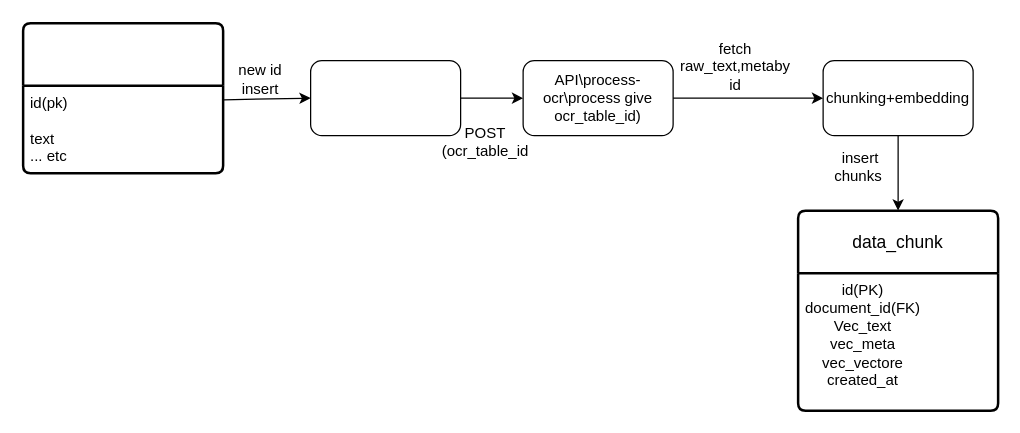
Some shapes in this 1020 by 433 pixel diagram are drawn without their labels. Here are the shapes that lost their labels. From the top down, the box of each, then its label:
(21, 21, 224, 174): OCR_table
(309, 59, 461, 136): worker service (detect new id's)
